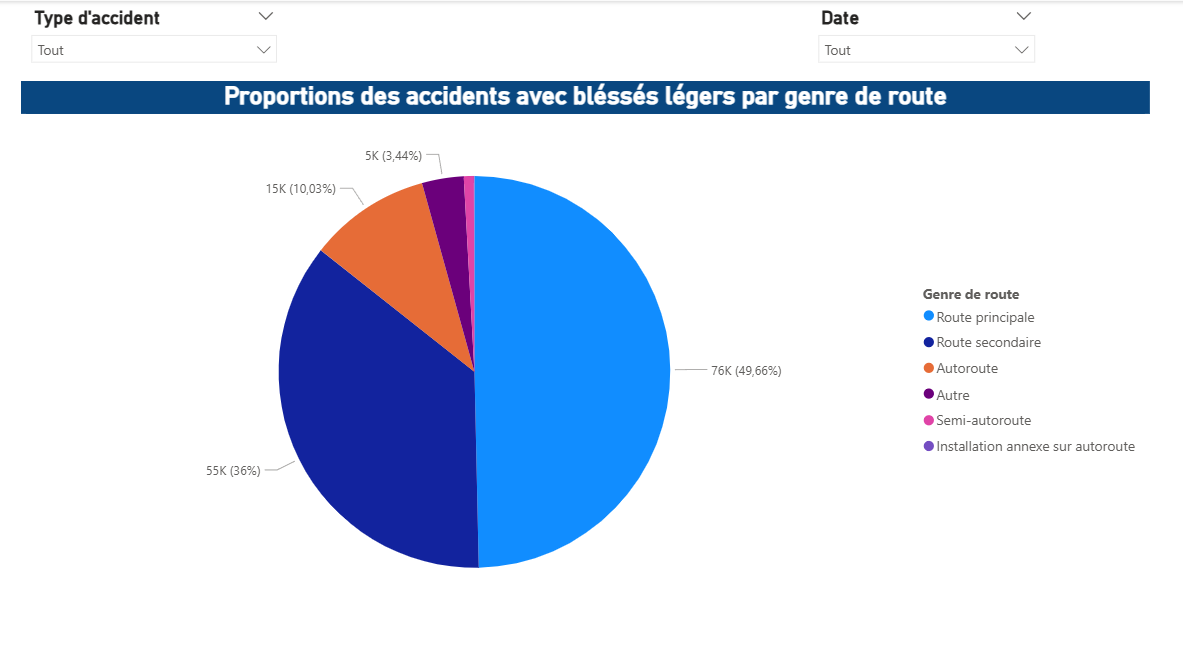

The page's visual inventory and layout, read from the dashboard file:
{"tool":"powerbi","page":{"name":"AccidentLegerParRoute","canvas":[1280,720],"ordinal":7},"visuals":[{"type":"pieChart","title":"Proportions des accidents avec bléssés légers par genre de route","fields":{"Y":["DAX.Total accidents avec bléssés légers"],"Category":["OFS Transport.Genre de route"]},"box":[128.4,77.8,1098.1,538.8],"z":0},{"type":"slicer","fields":{"Values":["OFS Transport.Type d'accident"]},"box":[128.4,0,258.7,62.2],"z":1000},{"type":"slicer","fields":{"Values":["OFS Transport.Date"]},"box":[893.9,0,230.5,62.2],"z":2000},{"type":"pageNavigator","box":[0,662.4,1280,49.6],"z":3000}]}

Visuals, with their boxes on the page's 1280x720 design canvas (x1, y1, x2, y2). These are canvas units, not pixel positions in the 1183x658 screenshot, which may show the page scaled, cropped or inside an application window:
"Proportions des accidents avec bléssés légers par genre de route" pieChart: {"x1": 128, "y1": 78, "x2": 1226, "y2": 617}
slicer - OFS Transport.Type d'accident: {"x1": 128, "y1": 0, "x2": 387, "y2": 62}
slicer - OFS Transport.Date: {"x1": 894, "y1": 0, "x2": 1124, "y2": 62}
pageNavigator: {"x1": 0, "y1": 662, "x2": 1280, "y2": 712}
